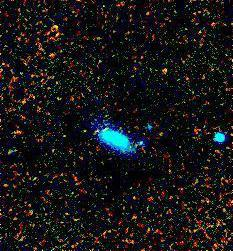star: (144, 57, 174, 87)
